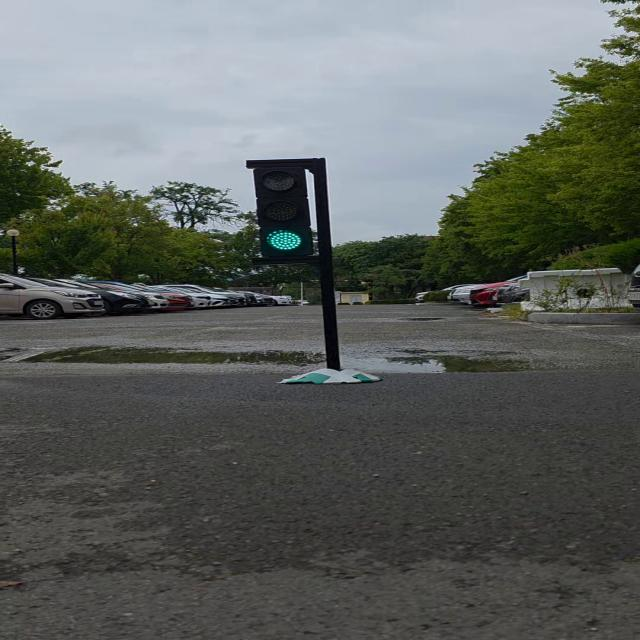green: (250, 160, 332, 263)
